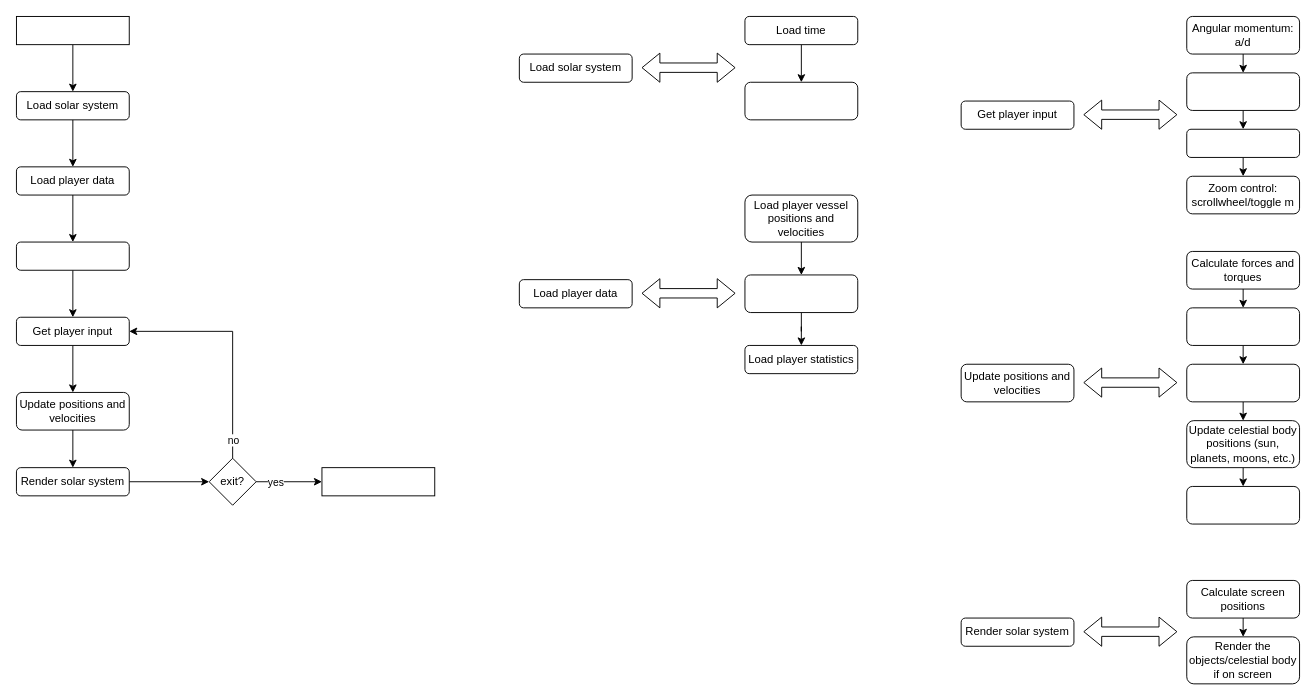
Image size: 1316x700. Some labels were removed from this diagram. Here are the shapes that lost their labels. From the top down, the centre of each, then its label:
point 72,30: Start
point 801,100: Load celestial bodies and their orbits
point 1243,91: Add/sub throttle: shift/ctrl
point 1243,142: Full/cut throttle: z/x
point 72,255: Initialize pygame
point 801,293: Load player achievements
point 1243,326: Update momenta and angular momenta
point 1243,382: Update velocities and positions
point 378,481: End
point 1243,505: Recalculate M/r^2 and redefine positions
